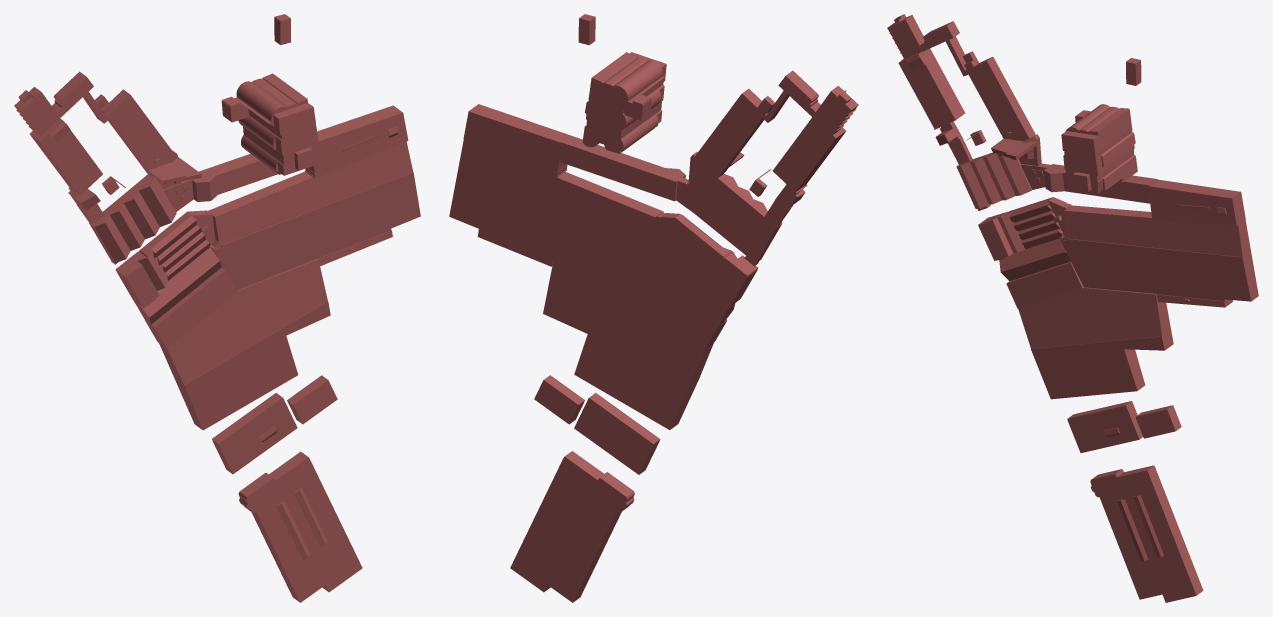
The model's file is additional_buildings_lod22_review.obj.
3 renders of one model, left to right at view 1: azimuth 30°, elevation 25°; view 2: azimuth 150°, elevation 25°; view 3: azimuth 330°, elevation 25°, orthographic. The views are drawn at different scales.
Parts seen in each view (by area): view 1: BAG_0606100000016136, BAG_0606100000002464, BAG_0606100000019105, BAG_0606100000015331, BAG_0606100000001363, BAG_0606100000015637, BAG_0606100000000850, BAG_0606100000013084, BAG_0606100000002076, BAG_0606100000003240; view 2: BAG_0606100000016136, BAG_0606100000002464, BAG_0606100000019105, BAG_0606100000015331, BAG_0606100000015637, BAG_0606100000001363, BAG_0606100000013084, BAG_0606100000000850, BAG_0606100000002076, BAG_0606100000003240, BAG_0606100000011743; view 3: BAG_0606100000016136, BAG_0606100000002464, BAG_0606100000019105, BAG_0606100000015331, BAG_0606100000001363, BAG_0606100000000850, BAG_0606100000015637, BAG_0606100000013084, BAG_0606100000002076, BAG_0606100000003240, BAG_0606100000011743.
Part boxes in pixels (x1,y1,x2,y2): BAG_0606100000016136: (115, 105, 420, 348); BAG_0606100000002464: (159, 258, 330, 430); BAG_0606100000019105: (238, 451, 362, 602); BAG_0606100000015331: (221, 73, 318, 175); BAG_0606100000001363: (14, 71, 102, 196); BAG_0606100000015637: (89, 173, 193, 264); BAG_0606100000000850: (83, 89, 187, 184); BAG_0606100000013084: (212, 393, 297, 474); BAG_0606100000002076: (287, 375, 337, 424); BAG_0606100000003240: (68, 189, 103, 224); BAG_0606100000016136: (449, 104, 758, 348); BAG_0606100000002464: (543, 259, 713, 429); BAG_0606100000019105: (510, 451, 634, 602); BAG_0606100000015331: (582, 52, 666, 153); BAG_0606100000015637: (676, 173, 782, 266); BAG_0606100000001363: (772, 70, 858, 193); BAG_0606100000013084: (574, 393, 660, 474); BAG_0606100000000850: (695, 88, 789, 177); BAG_0606100000002076: (534, 375, 584, 424); BAG_0606100000003240: (764, 184, 805, 226); BAG_0606100000011743: (688, 152, 715, 190); BAG_0606100000016136: (978, 164, 1258, 308); BAG_0606100000002464: (1018, 287, 1173, 399); BAG_0606100000019105: (1090, 465, 1203, 602); BAG_0606100000015331: (1061, 104, 1137, 194); BAG_0606100000001363: (887, 14, 965, 129); BAG_0606100000000850: (945, 36, 1035, 155); BAG_0606100000015637: (956, 152, 1050, 210); BAG_0606100000013084: (1067, 401, 1142, 452); BAG_0606100000002076: (1135, 405, 1181, 438); BAG_0606100000003240: (935, 121, 972, 164); BAG_0606100000011743: (1003, 134, 1041, 166).
Bounding box in the file's own units: 218 × 305 × 42.14.
